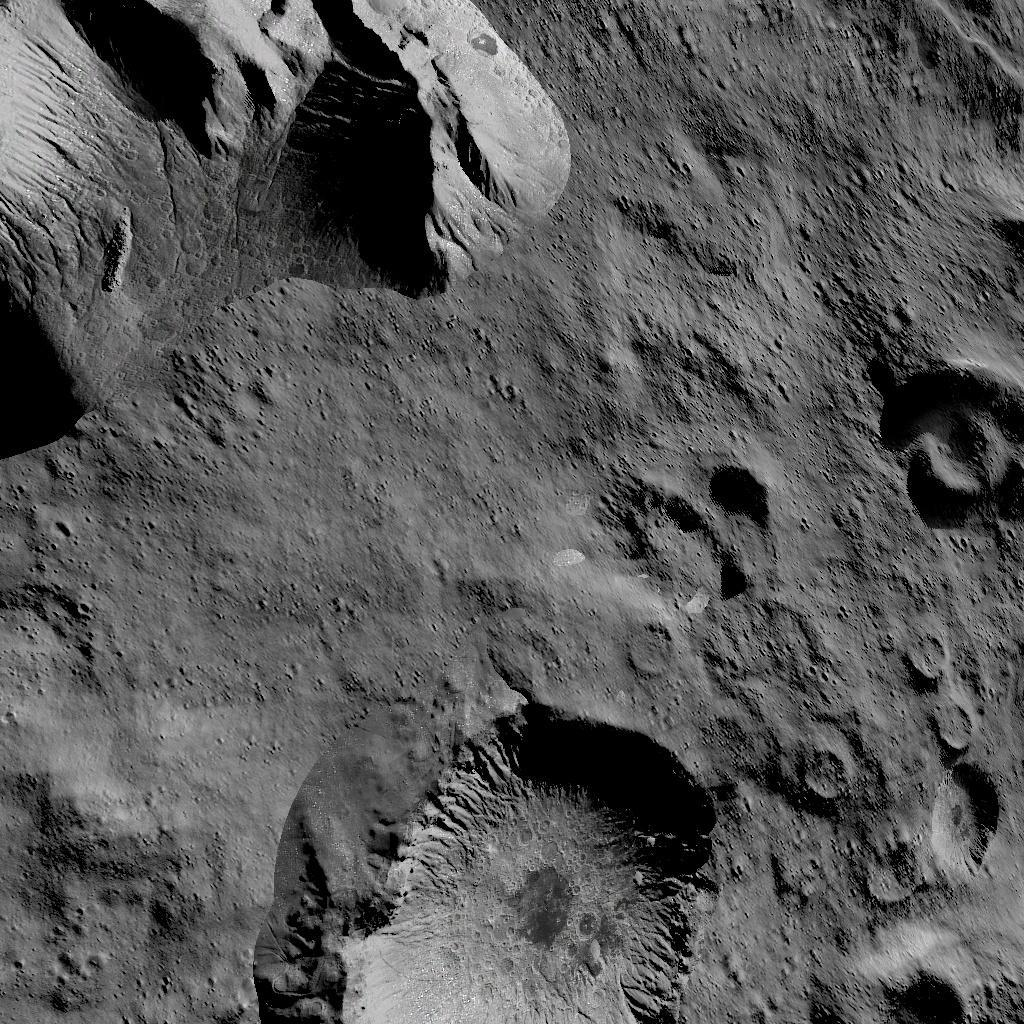Boulders: (0, 0, 568, 444)
Crater: (239, 698, 717, 1024), (886, 623, 994, 871), (859, 362, 1024, 521), (629, 460, 781, 604), (797, 928, 980, 1024), (618, 616, 678, 680), (789, 739, 850, 801)
Plan surface: (3, 454, 589, 688), (579, 0, 845, 438), (3, 696, 226, 1020)
